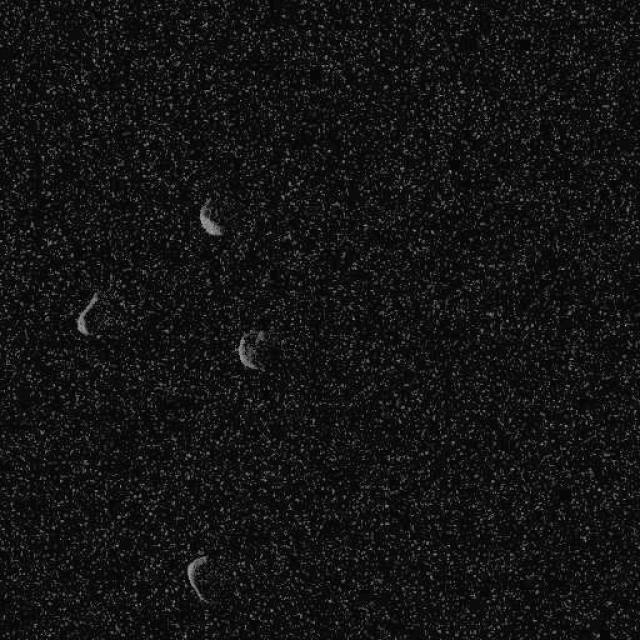D2: (235, 328, 281, 372), (185, 553, 216, 605), (75, 290, 99, 338), (197, 199, 225, 236)
